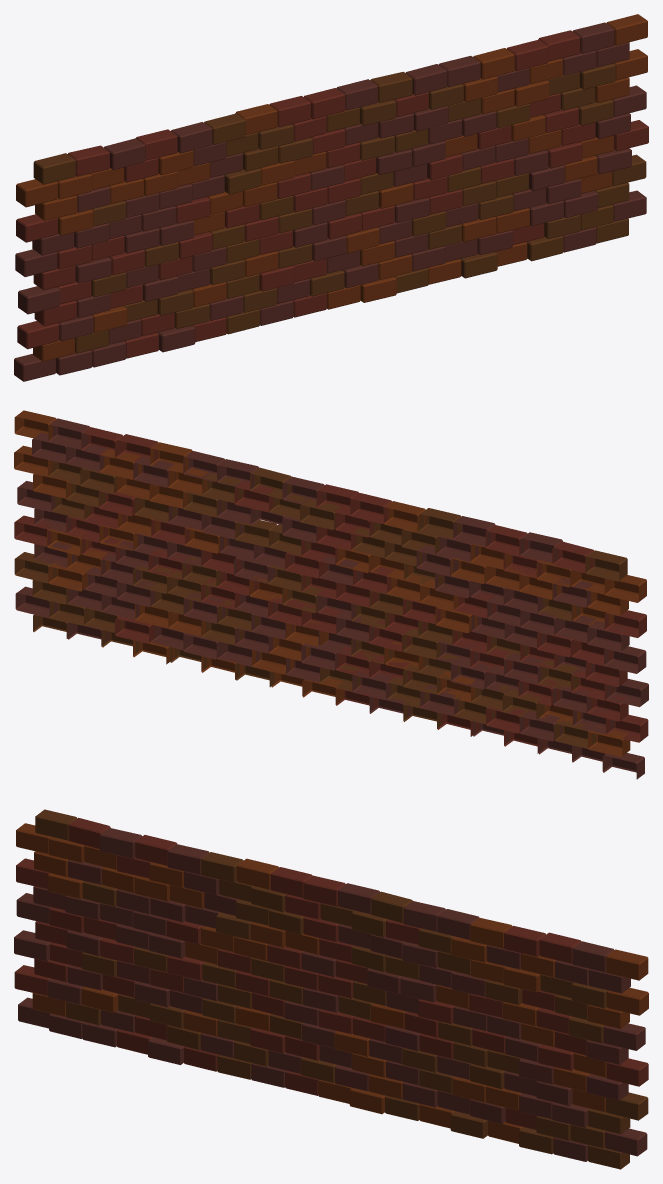
The model's file is Brick_Wall_1.1.fbx.
The picture shows the model from 3 angles, top to bottom: view 1: azimuth 30°, elevation 25°; view 2: azimuth 150°, elevation 25°; view 3: azimuth 330°, elevation 25°; orthographic projection.
Parts seen in each view (by area): view 1: Brick_Wall; view 2: Brick_Wall; view 3: Brick_Wall.
Boxes of the visible parts, x1,y1,x2,y2 form: Brick_Wall: (14,14,648,381); Brick_Wall: (14,410,648,779); Brick_Wall: (14,809,648,1169).
Bounding box in the file's own units: 1189 × 384 × 45.69.
